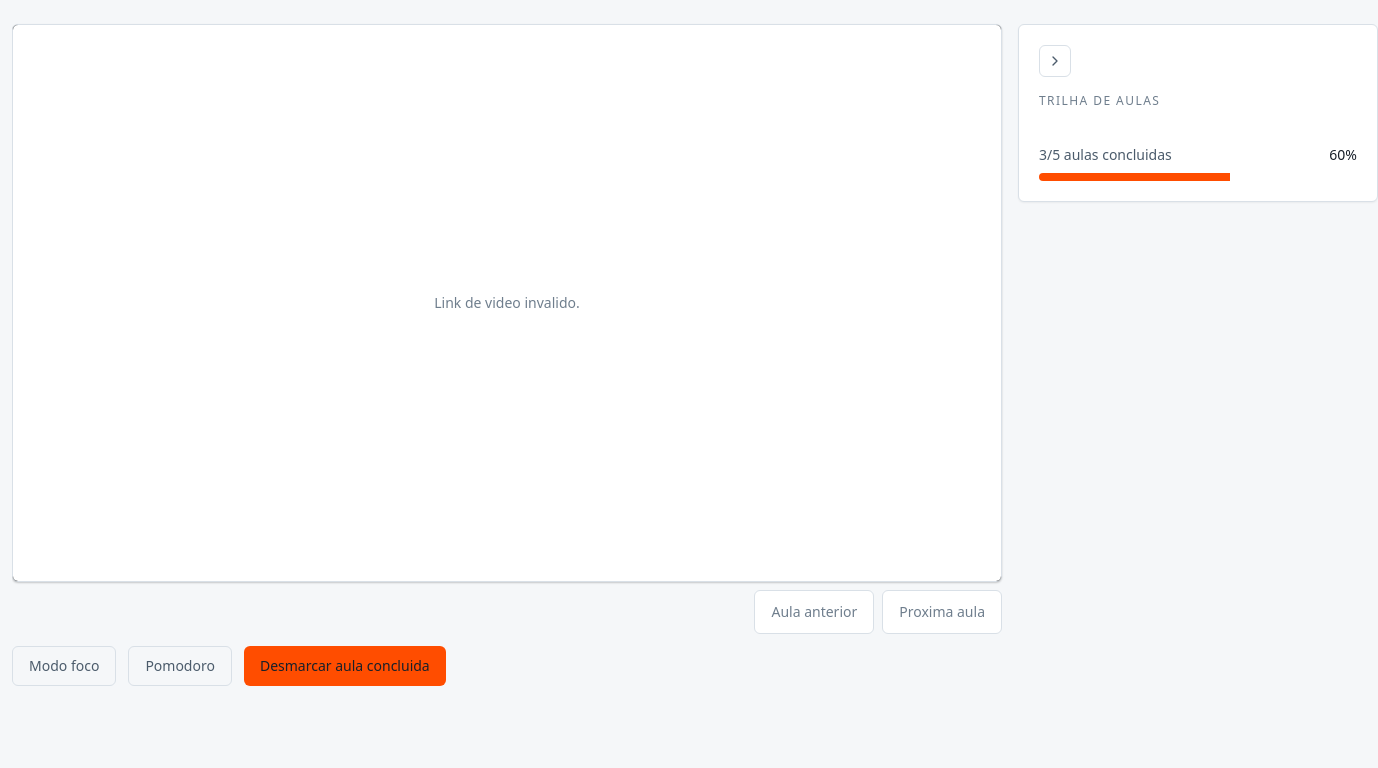
Test: LessonCompletionPanel › unmarks a completed lesson and updates progress back down
This screenshot has width=1378, height=768.
Click the button "Desmarcar aula concluida" at {"x": 345, "y": 666}, box [244,646,446,686]
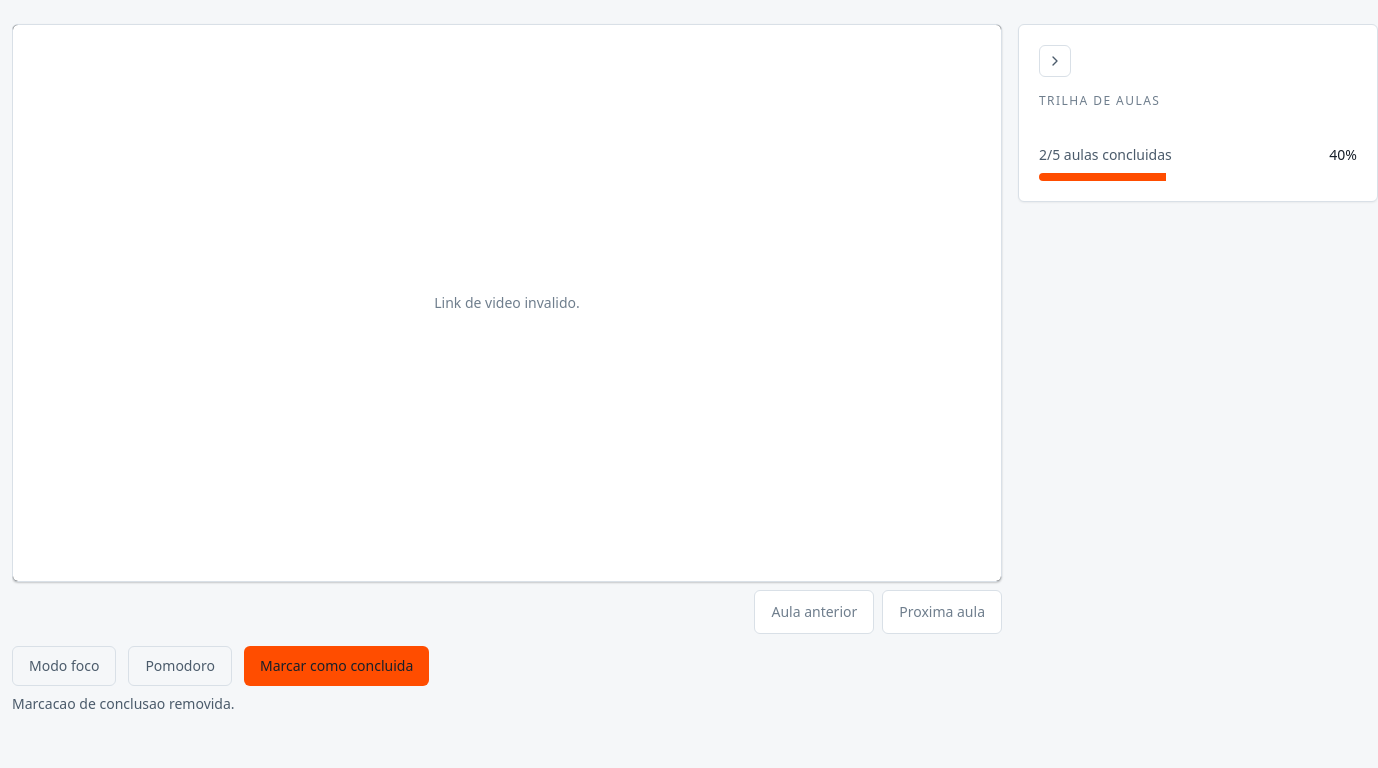
expect the button "Marcar como concluida" is shown: met, box [244,646,429,686]
